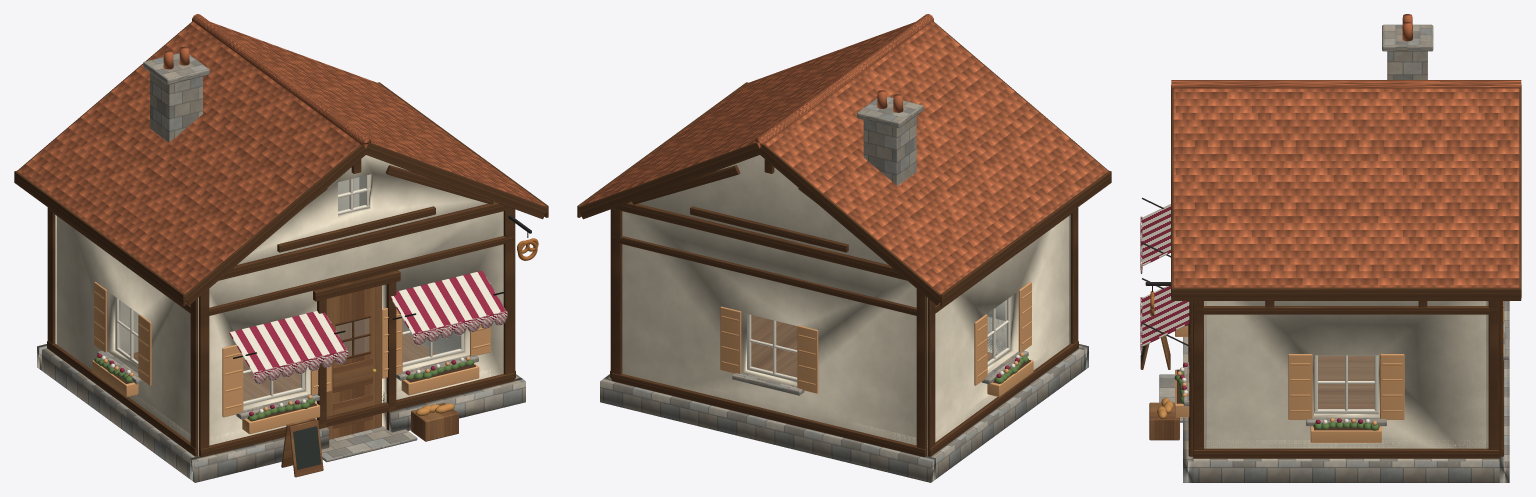
Rendered from building_bakery.glb.
The picture shows the model from 3 angles, left to right: view 1: azimuth 30°, elevation 25°; view 2: azimuth 150°, elevation 25°; view 3: azimuth 270°, elevation 25°; orthographic projection. The views are drawn at different scales.
Visible parts, largest first — view 1: roof, wall_front, wall_left, base, door, wall_front_low, wall_left_low, wall_back, wall_right; view 2: wall_back, roof, wall_left, wall_back_low, base, wall_left_low, wall_front; view 3: roof, wall_right, wall_front, base, wall_back, wall_right_low.
Boxes of the visible parts, left/top/right/bottom form: roof: left=14, top=14, right=548, bottom=306; wall_front: left=190, top=155, right=538, bottom=482; wall_left: left=42, top=207, right=198, bottom=478; base: left=128, top=330, right=458, bottom=477; door: left=326, top=285, right=381, bottom=439; wall_front_low: left=191, top=366, right=525, bottom=482; wall_left_low: left=44, top=334, right=198, bottom=457; wall_back: left=37, top=177, right=359, bottom=370; wall_right: left=359, top=176, right=515, bottom=378; wall_back: left=600, top=155, right=935, bottom=482; roof: left=577, top=14, right=1111, bottom=306; wall_left: left=927, top=207, right=1083, bottom=478; wall_back_low: left=600, top=366, right=935, bottom=482; base: left=751, top=315, right=997, bottom=377; wall_left_low: left=927, top=335, right=1081, bottom=455; wall_front: left=987, top=215, right=1088, bottom=370; roof: left=1171, top=14, right=1521, bottom=300; wall_right: left=1193, top=301, right=1499, bottom=482; wall_front: left=1140, top=197, right=1206, bottom=482; base: left=1140, top=335, right=1374, bottom=440; wall_back: left=1486, top=301, right=1509, bottom=482; wall_right_low: left=1193, top=440, right=1499, bottom=449.
Size of the model in its own units: 6.41 by 5.57 by 5.6.
Materials: 21 (7 with a texture image).
